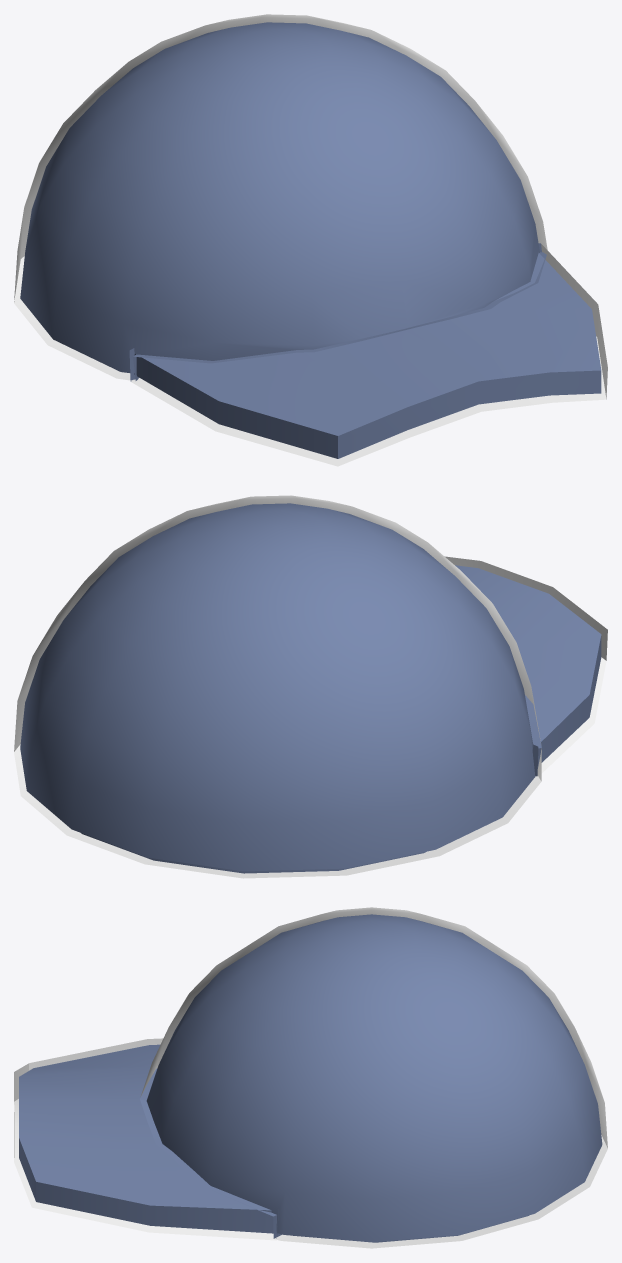
Rendered from hat.glb.
3 views of the same model, one above another, from view 1: azimuth 30°, elevation 25°; view 2: azimuth 150°, elevation 25°; view 3: azimuth 270°, elevation 25° (orthographic). The views are drawn at different scales.
Visible parts, largest first — view 1: hat; view 2: hat; view 3: hat.
Boxes of the visible parts, x1,y1,x2,y2 form: hat: (14,14,607,466); hat: (14,495,607,878); hat: (14,907,607,1248).
Size of the model in its own units: 1.43 by 0.7425 by 1.8.
